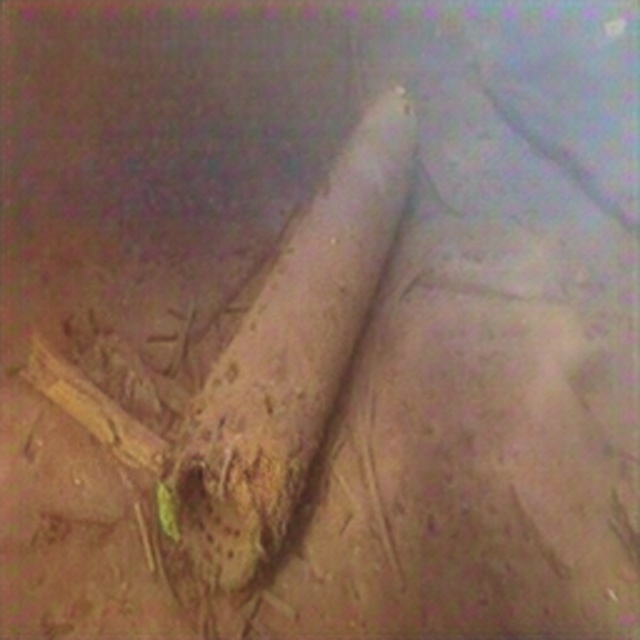mine: (170, 89, 418, 593)
